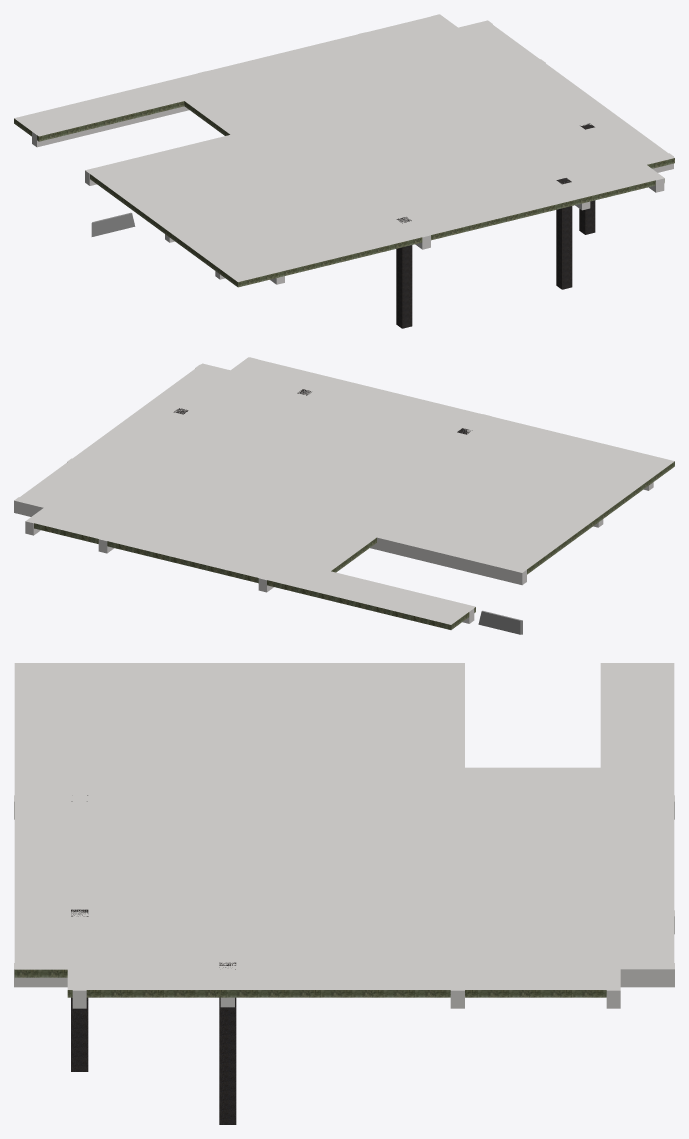
3 renders of one model, top to bottom at view 1: azimuth 30°, elevation 25°; view 2: azimuth 150°, elevation 25°; view 3: azimuth 270°, elevation 25°, orthographic. The views are drawn at different scales.
Parts seen in each view (by area): view 1: Floor Floor-Grnd-Susp_65Scr-80Ins-100Blk-75PC [631870]001, Concrete - Rectangular Beam 250 x 350 mm [654611]001, Concrete - Rectangular Beam 250 x 350 mm [654184]001, Concrete - Rectangular Beam 250 x 350 mm [654478]001, Concrete - Rectangular Beam 250 x 350 mm [654287]001, Concrete - Rectangular Beam 250 x 350 mm [654818]001, Concrete - Rectangular Beam 250 x 350 mm [654977]001, Concrete - Rectangular Beam 250 x 350 mm [654899]001, Columns_Rectangular 300 x 300 mm [646599]001, Columns_Rectangular 300 x 300 mm [646252]001, Concrete - Rectangular Beam 250 x 350 mm [654121]001, Assembled Stair Stair [630597]_[636881]001 (+1 smaller); view 2: Floor Floor-Grnd-Susp_65Scr-80Ins-100Blk-75PC [631870]001, Concrete - Rectangular Beam 250 x 350 mm [654478]001, Concrete - Rectangular Beam 250 x 350 mm [654611]001, Concrete - Rectangular Beam 250 x 350 mm [654287]001, Concrete - Rectangular Beam 250 x 350 mm [654184]001, Concrete - Rectangular Beam 250 x 350 mm [654899]001, Concrete - Rectangular Beam 250 x 350 mm [654977]001, Concrete - Rectangular Beam 250 x 350 mm [654818]001, Concrete - Rectangular Beam 250 x 350 mm [654121]001, Assembled Stair Stair [630597]_[636881]001; view 3: Floor Floor-Grnd-Susp_65Scr-80Ins-100Blk-75PC [631870]001, Concrete - Rectangular Beam 250 x 350 mm [654977]001, Concrete - Rectangular Beam 250 x 350 mm [654611]001, Concrete - Rectangular Beam 250 x 350 mm [654478]001, Concrete - Rectangular Beam 250 x 350 mm [654184]001, Concrete - Rectangular Beam 250 x 350 mm [654287]001, Concrete - Rectangular Beam 250 x 350 mm [654818]001, Concrete - Rectangular Beam 250 x 350 mm [654899]001, Concrete - Rectangular Beam 250 x 350 mm [654121]001, Columns_Rectangular 300 x 300 mm [646169]001, Columns_Rectangular 300 x 300 mm [646599]001.
Boxes of the visible parts, x1,y1,x2,y2 form: Floor Floor-Grnd-Susp_65Scr-80Ins-100Blk-75PC [631870]001: (14,16,674,287); Concrete - Rectangular Beam 250 x 350 mm [654611]001: (32,20,492,147); Concrete - Rectangular Beam 250 x 350 mm [654184]001: (215,153,673,279); Concrete - Rectangular Beam 250 x 350 mm [654478]001: (85,59,545,185); Concrete - Rectangular Beam 250 x 350 mm [654287]001: (165,117,621,242); Concrete - Rectangular Beam 250 x 350 mm [654818]001: (198,71,430,249); Concrete - Rectangular Beam 250 x 350 mm [654977]001: (432,14,664,192); Concrete - Rectangular Beam 250 x 350 mm [654899]001: (358,32,590,210); Columns_Rectangular 300 x 300 mm [646599]001: (556,178,572,289); Columns_Rectangular 300 x 300 mm [646252]001: (396,217,412,328); Concrete - Rectangular Beam 250 x 350 mm [654121]001: (132,162,284,284); Assembled Stair Stair [630597]_[636881]001: (91,212,135,236); Floor Floor-Grnd-Susp_65Scr-80Ins-100Blk-75PC [631870]001: (16,357,674,629); Concrete - Rectangular Beam 250 x 350 mm [654478]001: (67,458,526,585); Concrete - Rectangular Beam 250 x 350 mm [654611]001: (14,497,474,623); Concrete - Rectangular Beam 250 x 350 mm [654287]001: (148,402,603,527); Concrete - Rectangular Beam 250 x 350 mm [654184]001: (195,364,653,490); Concrete - Rectangular Beam 250 x 350 mm [654899]001: (98,375,330,553); Concrete - Rectangular Beam 250 x 350 mm [654977]001: (25,357,257,535); Concrete - Rectangular Beam 250 x 350 mm [654818]001: (258,414,490,592); Concrete - Rectangular Beam 250 x 350 mm [654121]001: (480,450,635,559); Assembled Stair Stair [630597]_[636881]001: (478,610,522,634); Floor Floor-Grnd-Susp_65Scr-80Ins-100Blk-75PC [631870]001: (14,663,674,997); Concrete - Rectangular Beam 250 x 350 mm [654977]001: (14,963,674,987); Concrete - Rectangular Beam 250 x 350 mm [654611]001: (606,663,620,1008); Concrete - Rectangular Beam 250 x 350 mm [654478]001: (450,663,464,1008); Concrete - Rectangular Beam 250 x 350 mm [654184]001: (72,664,86,1008); Concrete - Rectangular Beam 250 x 350 mm [654287]001: (220,664,234,1007); Concrete - Rectangular Beam 250 x 350 mm [654818]001: (14,795,674,819); Concrete - Rectangular Beam 250 x 350 mm [654899]001: (15,910,674,934); Concrete - Rectangular Beam 250 x 350 mm [654121]001: (15,691,450,696); Columns_Rectangular 300 x 300 mm [646169]001: (219,962,236,1124); Columns_Rectangular 300 x 300 mm [646599]001: (71,909,88,1071).
Size of the model in its own units: 13.58 by 3 by 11.58.
Materials: 5 (2 with a texture image).
